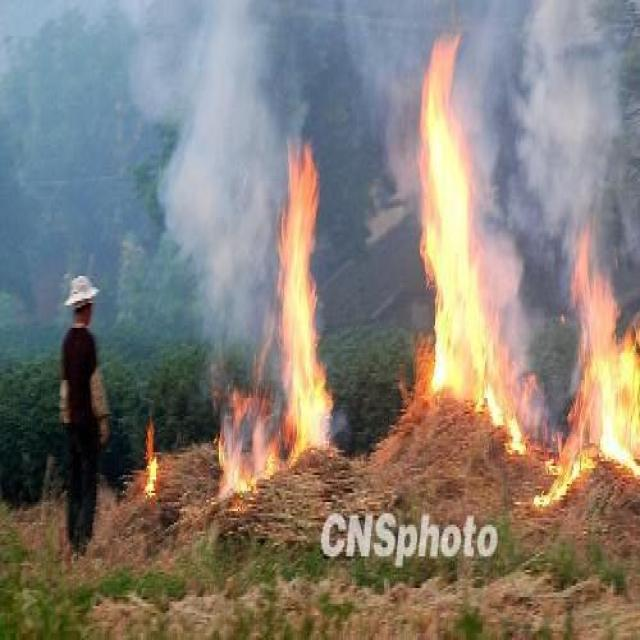fire: (408, 27, 532, 459), (198, 146, 346, 482), (549, 220, 637, 502), (135, 407, 168, 502)
smoke: (145, 0, 279, 332), (516, 0, 637, 249)
